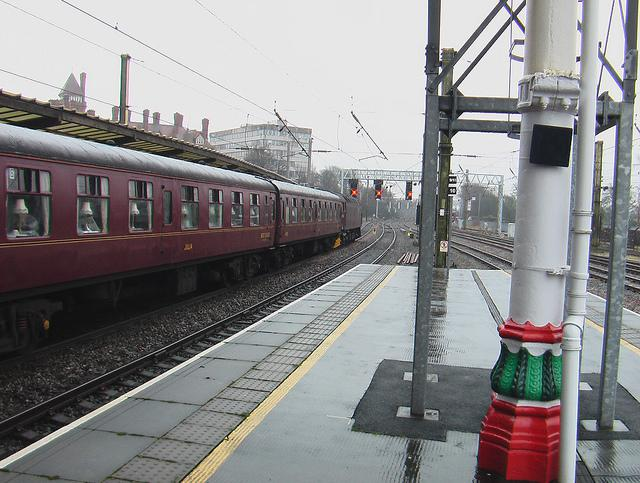Train: (0, 117, 365, 355)
